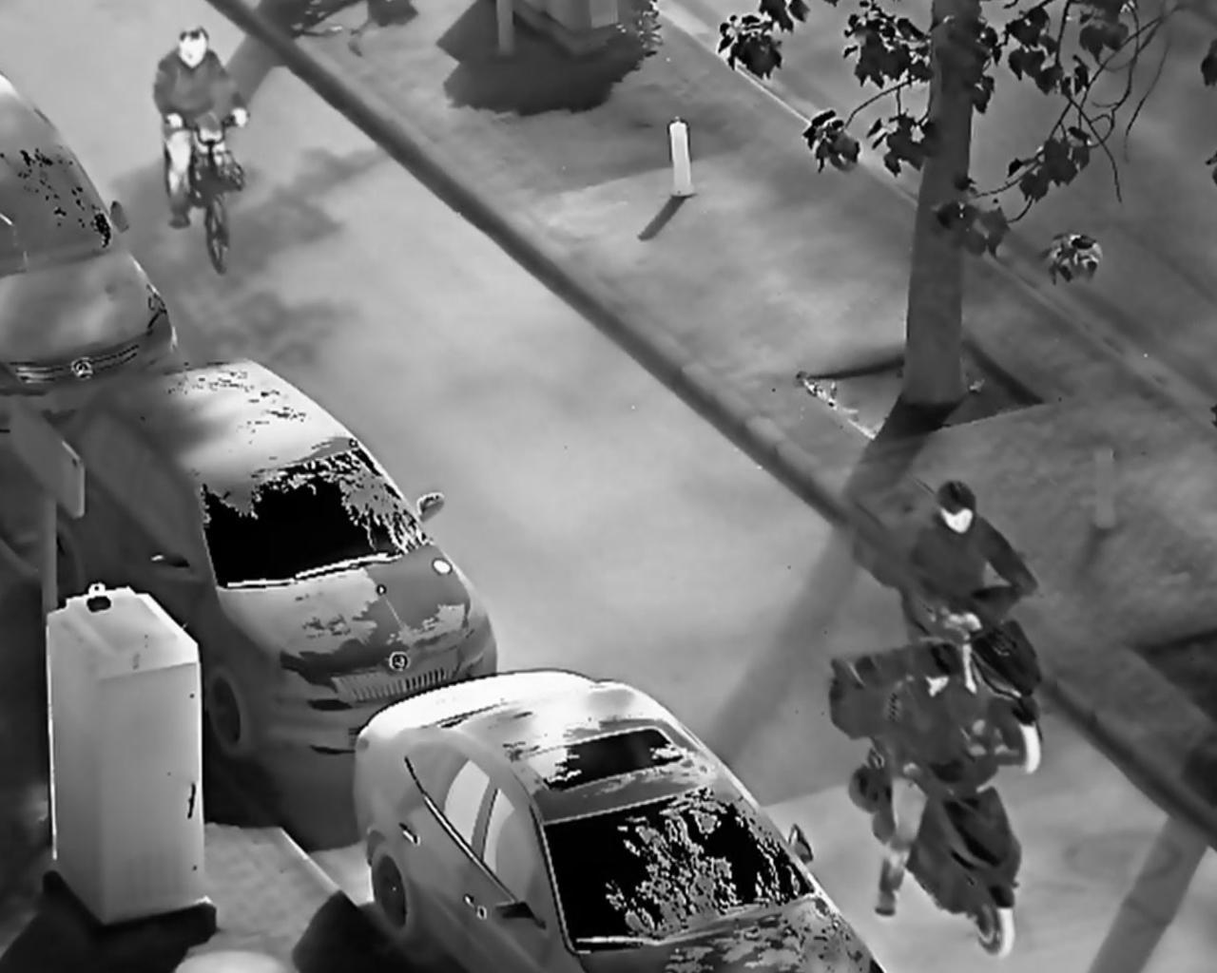person: (871, 635, 1015, 920), (901, 475, 1053, 690), (151, 24, 254, 233)
